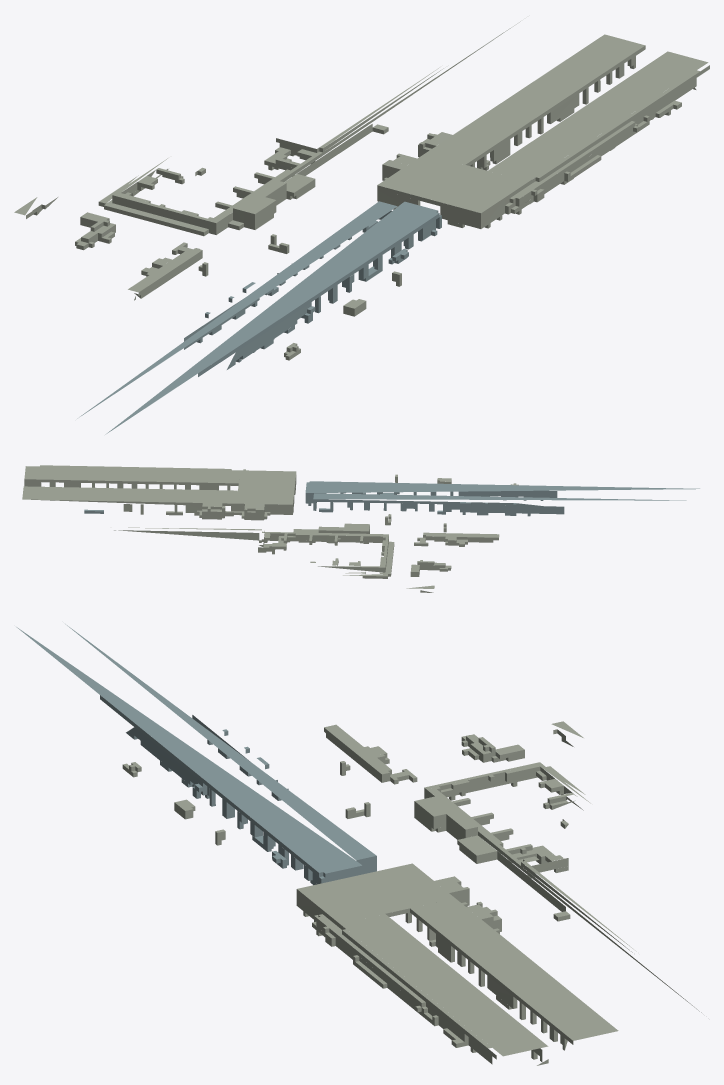
3 renders of one model, top to bottom at view 1: azimuth 30°, elevation 25°; view 2: azimuth 150°, elevation 25°; view 3: azimuth 270°, elevation 25°, orthographic. The views are drawn at different scales.
Visible parts, largest first — view 1: measured-industrial; view 2: measured-industrial; view 3: measured-industrial.
Part boxes in pixels (bbox=[...]): measured-industrial: bbox=[14, 21, 709, 434]; measured-industrial: bbox=[22, 465, 699, 592]; measured-industrial: bbox=[16, 624, 701, 1065].
Bounding box in the file's own units: 332 × 7.69 × 224.
